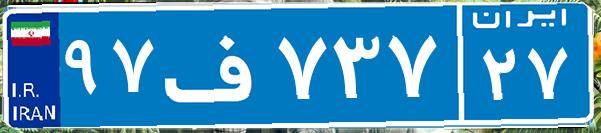2: (475, 38, 525, 113)
3: (330, 28, 385, 110)
7: (385, 28, 445, 110), (273, 28, 330, 110), (110, 28, 158, 105), (525, 38, 570, 115)
9: (57, 26, 110, 107)
ف: (158, 15, 273, 115)
